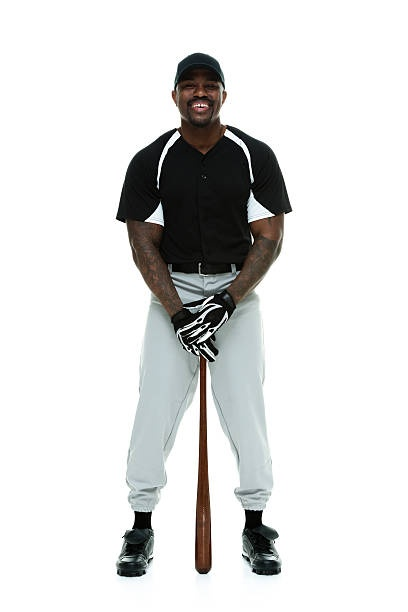bita: (185, 310, 222, 584)
